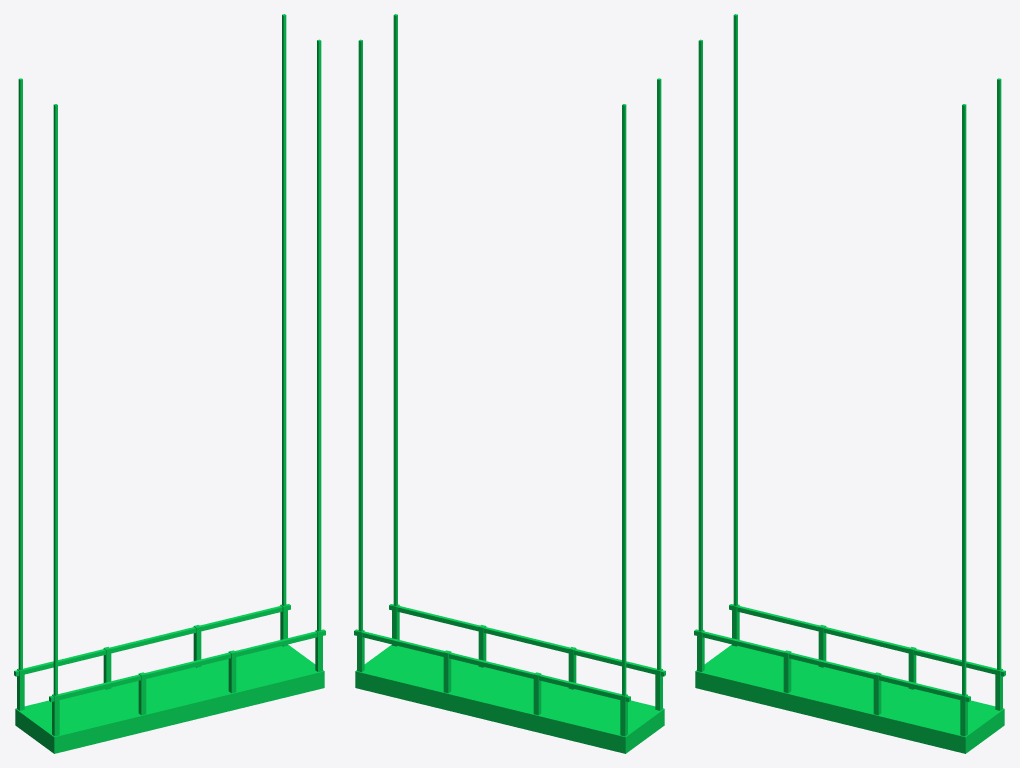
Rendered from SM_Moveable_Platform_400_100.fbx.
The picture shows the model from 3 angles, left to right: view 1: azimuth 30°, elevation 25°; view 2: azimuth 150°, elevation 25°; view 3: azimuth 330°, elevation 25°; orthographic projection.
Parts seen in each view (by area): view 1: pCube37; view 2: pCube37; view 3: pCube37.
Part boxes in pixels (left/top/right/bottom): pCube37: left=14, top=14, right=325, bottom=753; pCube37: left=354, top=14, right=665, bottom=753; pCube37: left=694, top=14, right=1005, bottom=753.
Bounding box in the file's own units: 4.06 × 9.13 × 1.
